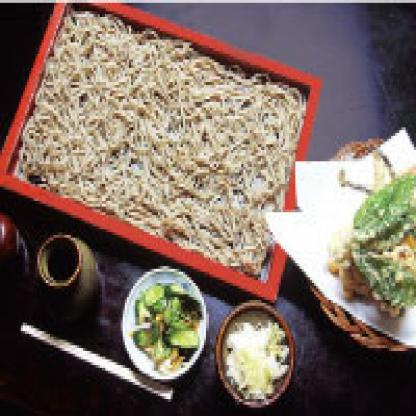memil soba: (25, 3, 299, 272)
